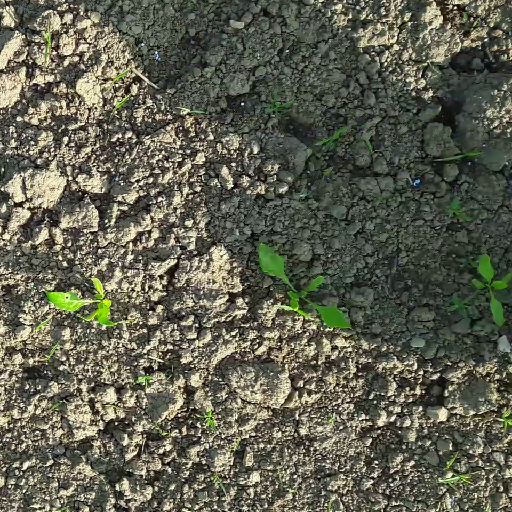sugarbeet: (255, 240, 354, 333), (41, 275, 121, 328), (471, 252, 512, 329)
weed: (441, 452, 482, 491), (261, 85, 294, 122), (444, 192, 477, 227), (445, 289, 478, 322), (433, 148, 484, 164), (270, 302, 312, 321), (313, 122, 345, 146), (43, 19, 56, 78), (170, 103, 211, 121), (108, 92, 135, 113), (497, 407, 512, 436), (110, 66, 132, 85), (363, 133, 378, 159), (43, 341, 59, 363), (319, 166, 339, 183), (204, 408, 216, 428), (134, 372, 152, 385), (210, 473, 221, 489)
